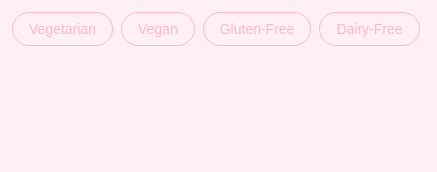
Test case: DietaryPreferences chips (#394) › surfaces an error and rolls back the toggle when the save fails
The width and height of the screenshot is (437, 172).
Click the checkbox labelled "Vegan".
click(158, 29)  # box [121,12,195,46]
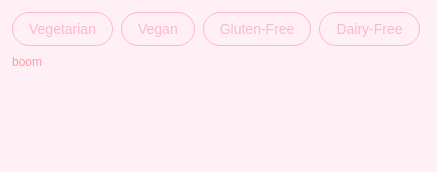
Now the text "boom" is shown, box [12,55,42,69]
